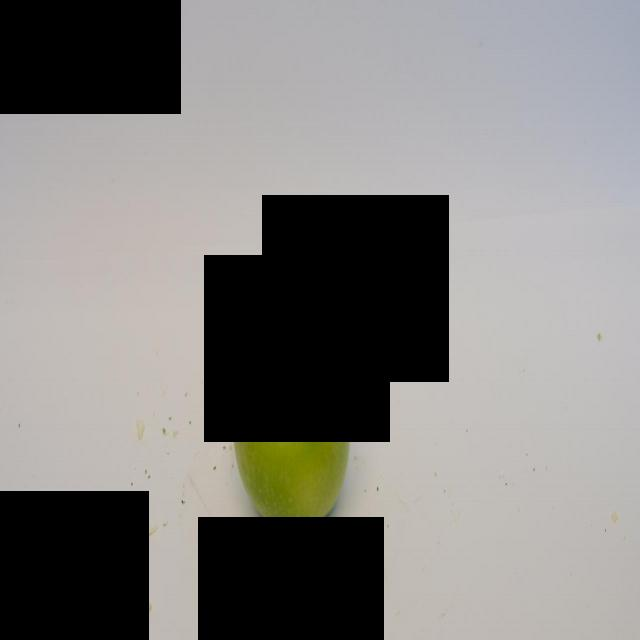apple: (232, 323, 354, 538)
